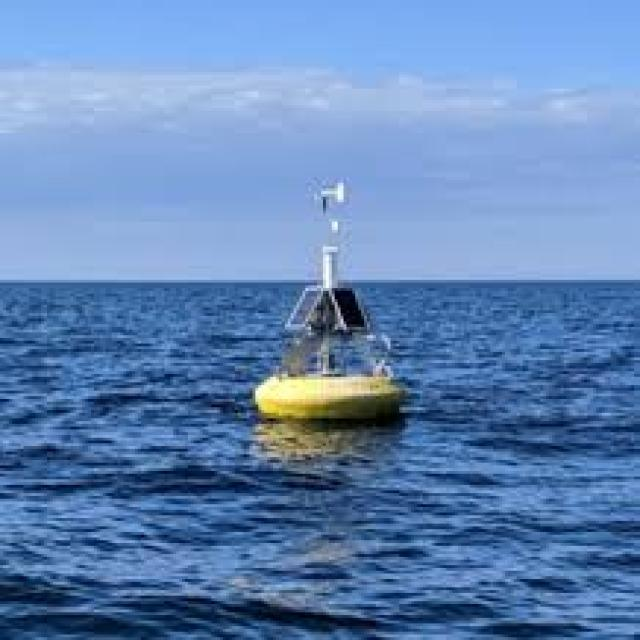2.5 sepcial mark: (248, 166, 417, 433)
